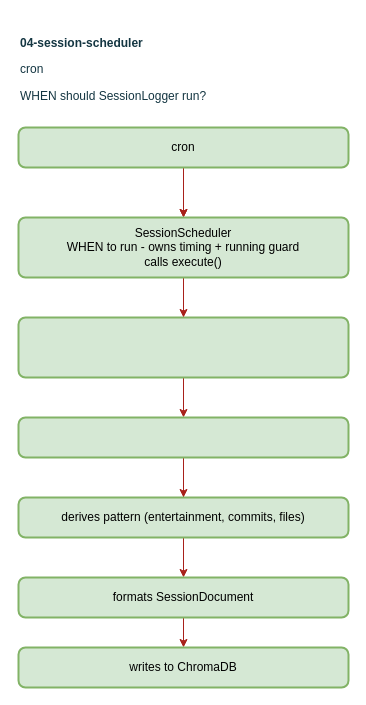
Image size: 366x705. Some labels were removed from this diagram. The shapes that lost their labels are listed below. From the top down, each one's box as (x1, y1, x2, y2) in pixels, then its label:
(17, 316, 349, 378): SessionLogger WHAT happened in the last 30 minutes, and how do I store it?
(17, 416, 349, 458): reads SQLite via IAppRepo + IIdeRepo
